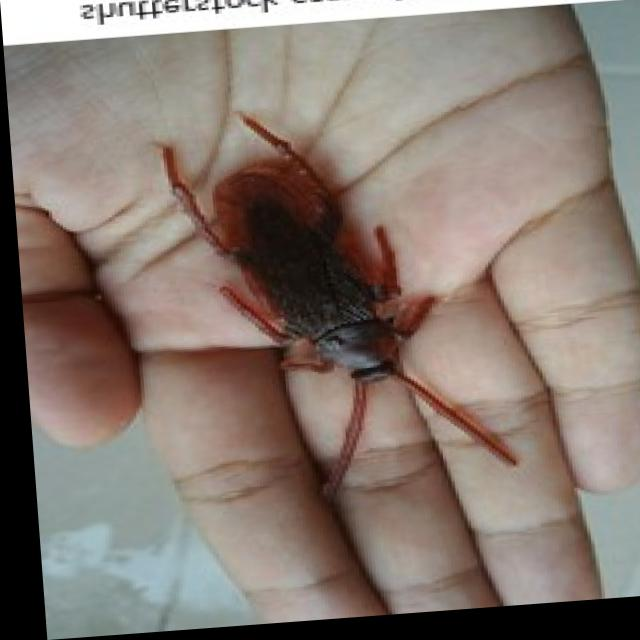Cockroach: (138, 92, 527, 519)
